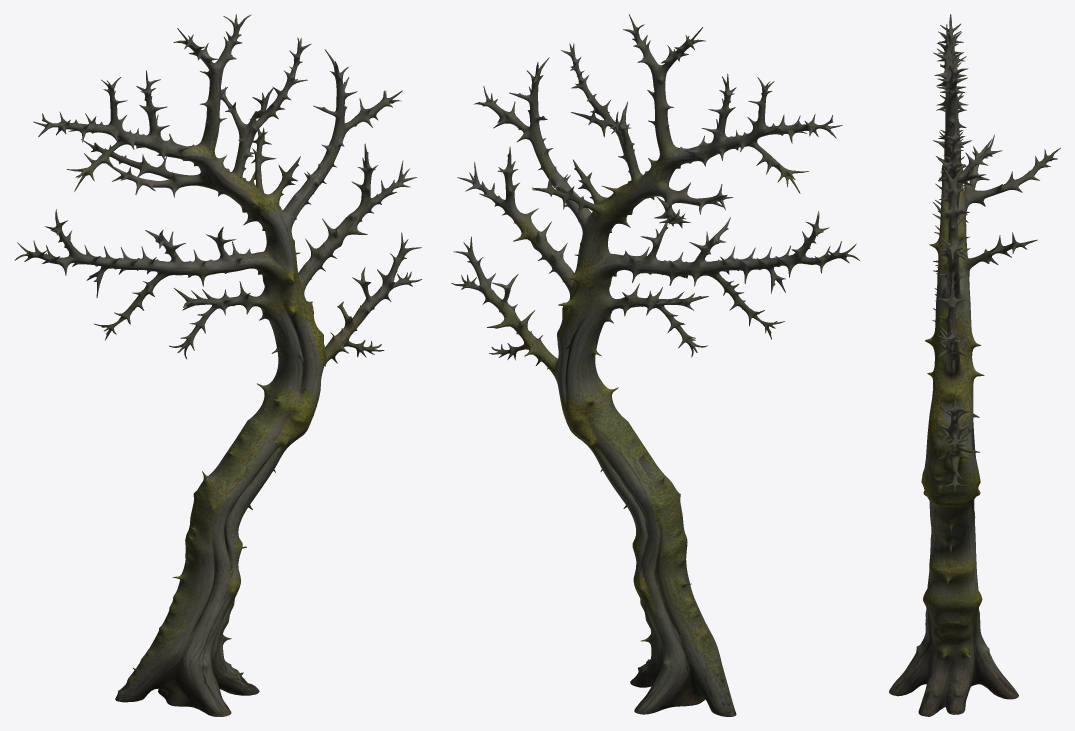
Rendered from deadhawthorn.glb.
The picture shows the model from 3 angles, left to right: view 1: azimuth 30°, elevation 25°; view 2: azimuth 150°, elevation 25°; view 3: azimuth 270°, elevation 25°; orthographic projection. The views are drawn at different scales.
Parts seen in each view (by area): view 1: node_0; view 2: node_0; view 3: node_0.
Part boxes in pixels (left/top/right/bottom): node_0: left=14, top=14, right=421, bottom=716; node_0: left=451, top=14, right=859, bottom=716; node_0: left=889, top=14, right=1060, bottom=716.
Size of the model in its own units: 0.7321 by 1.16 by 0.2745.
Materials: 1 (1 with a texture image).
